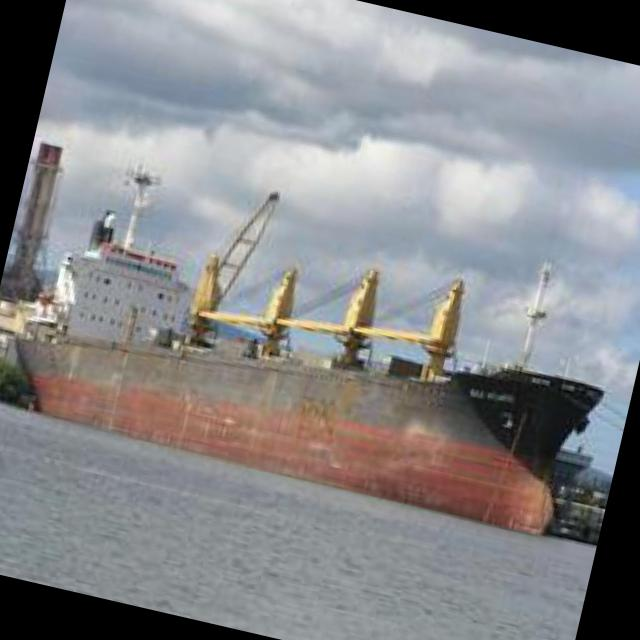boat: (0, 248, 613, 554)
